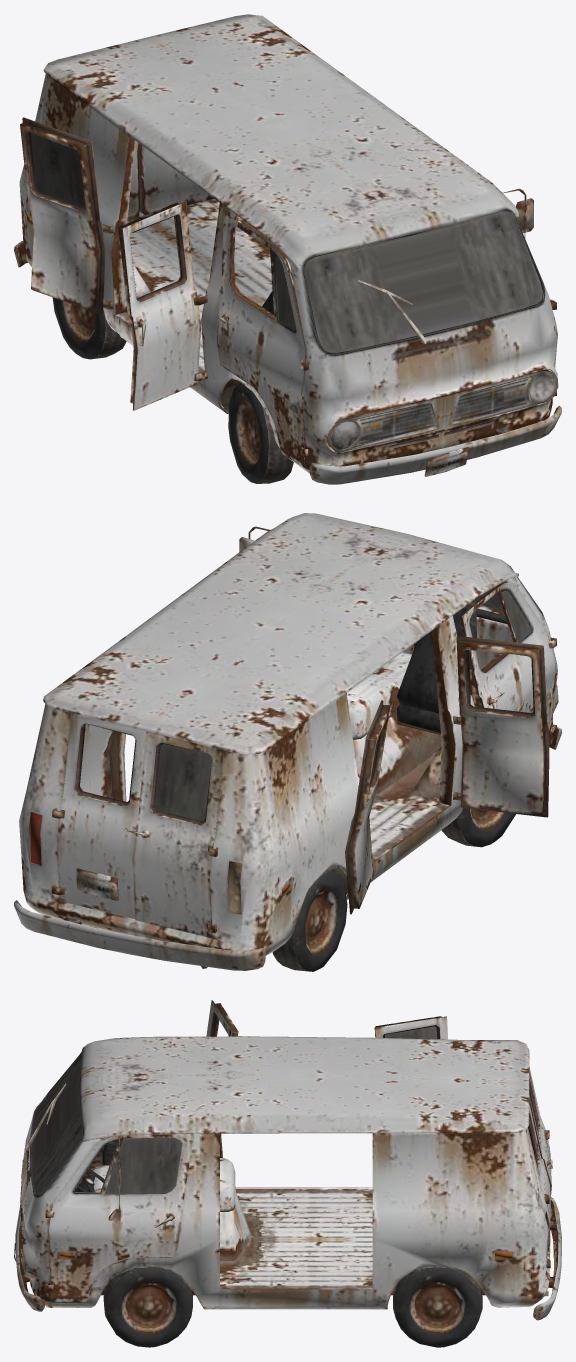
The model's file is van_b_light_blue.glb.
3 views of the same model, one above another, from view 1: azimuth 30°, elevation 25°; view 2: azimuth 150°, elevation 25°; view 3: azimuth 270°, elevation 25° (orthographic). The views are drawn at different scales.
Visible parts, largest first — view 1: van_b_LOD0; view 2: van_b_LOD0; view 3: van_b_LOD0.
Part boxes in pixels (x1,y1,x2,y2): van_b_LOD0: (14, 14, 561, 484); van_b_LOD0: (14, 513, 561, 971); van_b_LOD0: (14, 1000, 561, 1347).
Size of the model in its own units: 3.14 by 2.21 by 4.9.
1 material, 1 textured.
